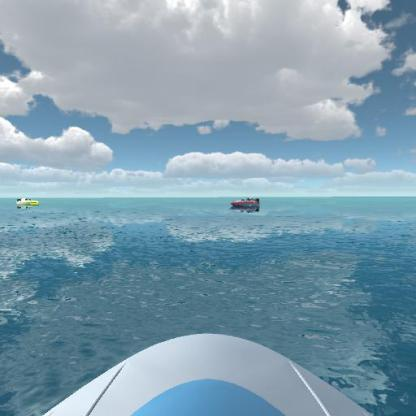usv2: (11, 193, 44, 212)
usv3: (228, 192, 264, 215)
